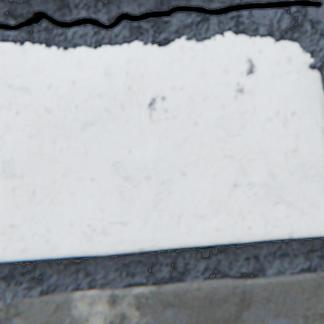brick: (0, 32, 323, 260), (0, 271, 323, 323)
crack: (0, 0, 322, 31)
